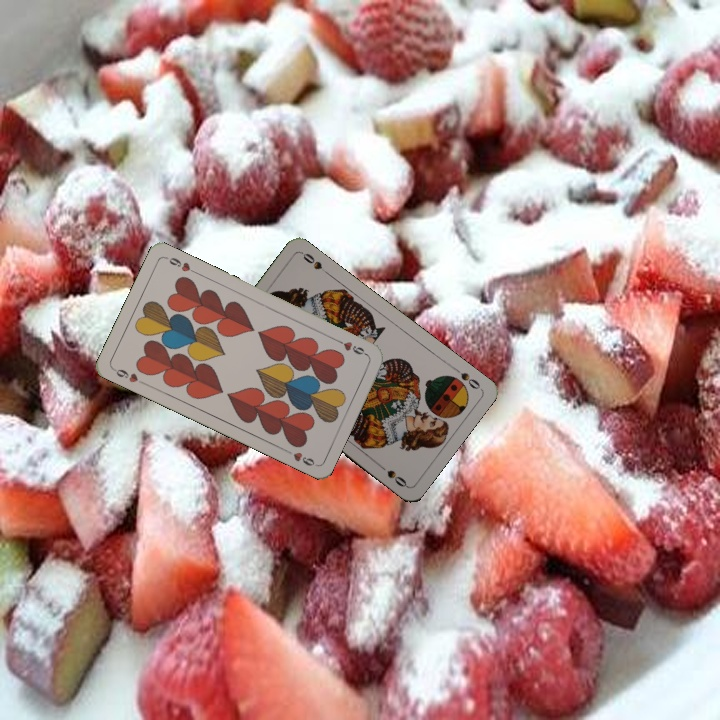H9: (109, 364, 147, 387), (332, 335, 370, 358)
SO: (448, 363, 483, 392)
